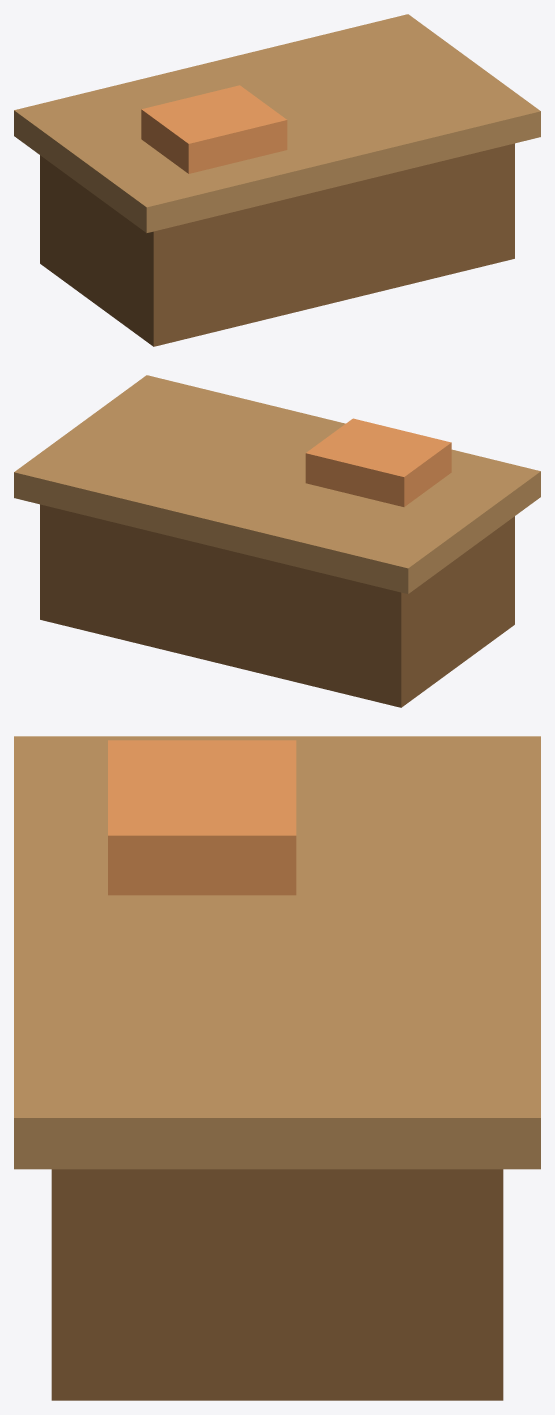
File: shelter_desk.glb
3 views of the same model, one above another, from view 1: azimuth 30°, elevation 25°; view 2: azimuth 150°, elevation 25°; view 3: azimuth 270°, elevation 25° (orthographic). The views are drawn at different scales.
Visible parts, largest first — view 1: shelter_desk; view 2: shelter_desk; view 3: shelter_desk.
Part boxes in pixels (x1,y1,x2,y2): shelter_desk: [14, 14, 540, 346]; shelter_desk: [14, 375, 540, 707]; shelter_desk: [14, 736, 540, 1400].
Size of the model in its own units: 48 by 21 by 28.
